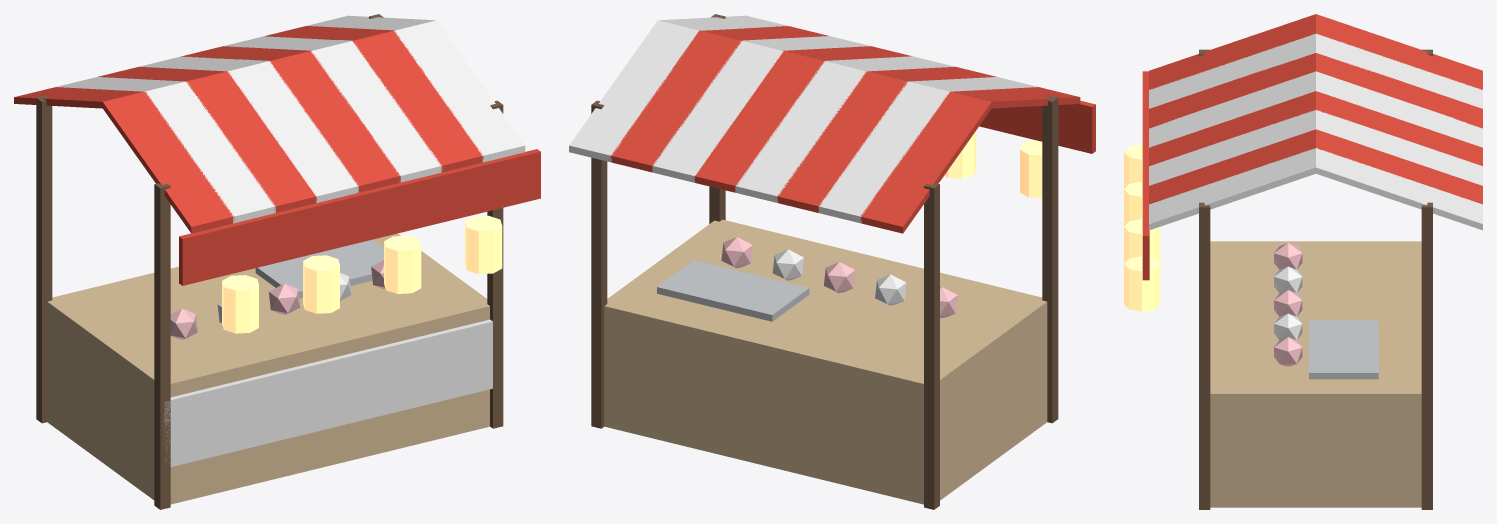
Rendered from yatai.glb.
3 renders of one model, left to right at view 1: azimuth 30°, elevation 25°; view 2: azimuth 150°, elevation 25°; view 3: azimuth 270°, elevation 25°, orthographic. The views are drawn at different scales.
Visible parts, largest first — view 1: yatai; view 2: yatai; view 3: yatai.
Boxes of the visible parts, bbox=[...] form: yatai: bbox=[14, 14, 540, 509]; yatai: bbox=[569, 14, 1095, 509]; yatai: bbox=[1124, 14, 1482, 509].
Size of the model in its own units: 2.8 by 2.7 by 2.58.
